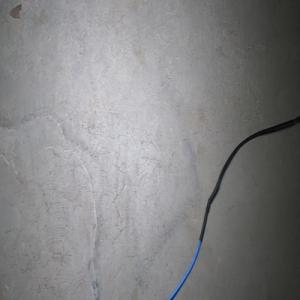Wire: (167, 115, 300, 300)
